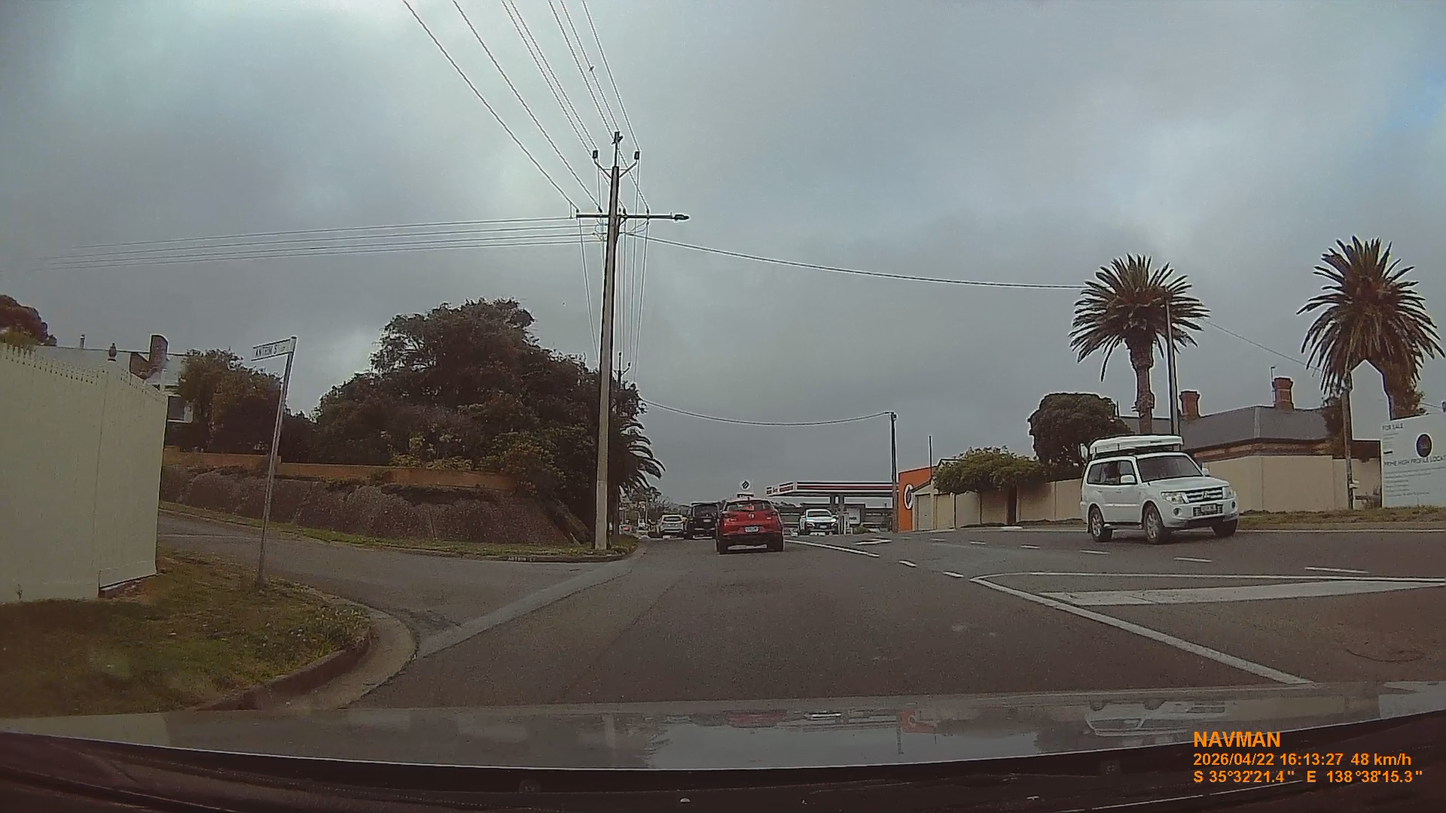fences: (1203, 456, 1434, 513), (926, 483, 1077, 527)
